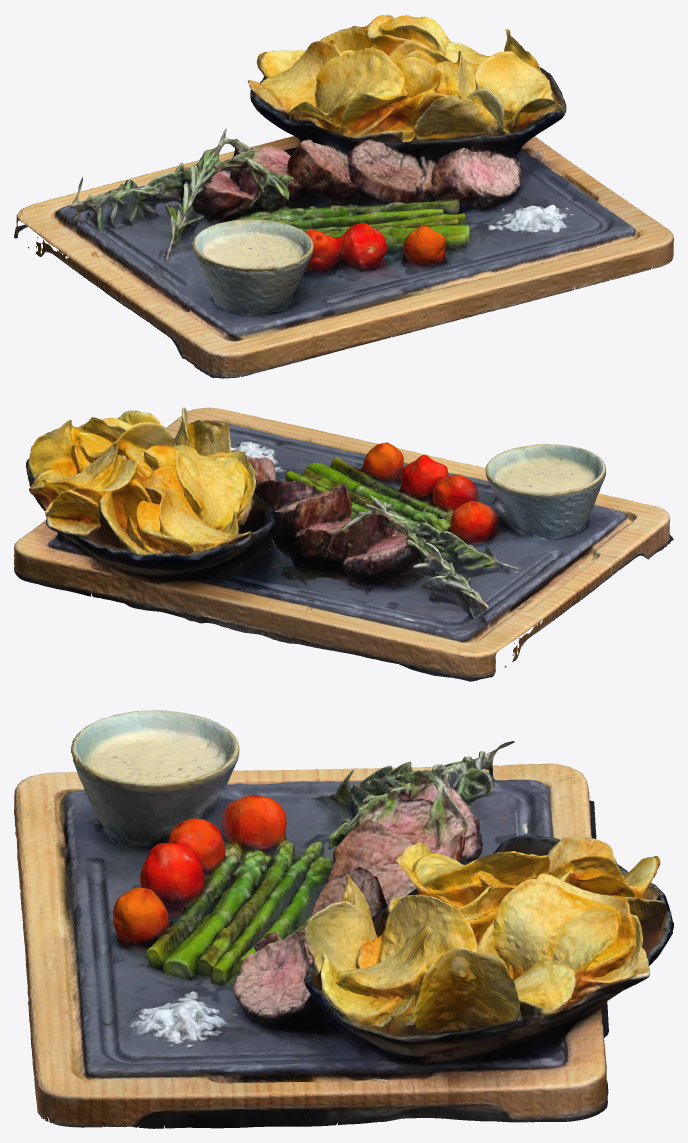
File: muschi-de-vita-cu-ciuperci.glb
3 renders of one model, top to bottom at view 1: azimuth 30°, elevation 25°; view 2: azimuth 150°, elevation 25°; view 3: azimuth 270°, elevation 25°, orthographic. The views are drawn at different scales.
Bounding box in the file's own units: 0.383 × 0.096 × 0.3138.
1 material, 1 textured.
